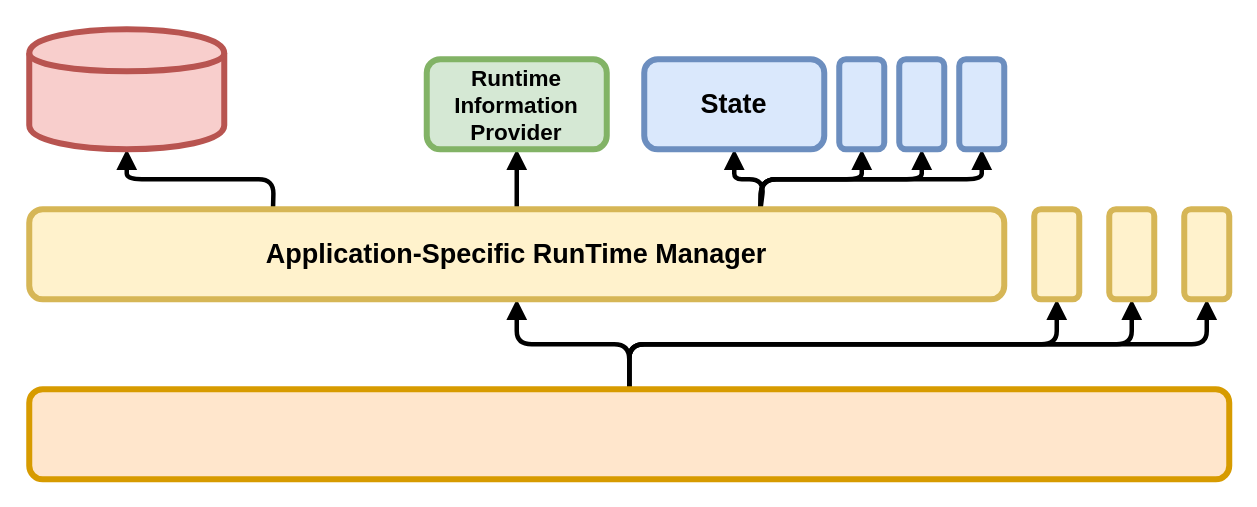
This 1257x507 diagram has some shape labels left out. Each missing label, with the centre of its shape:
Application Knowledge: point 126,89
Data-Aware Application-Specific RunTime Manager: point 629,434
